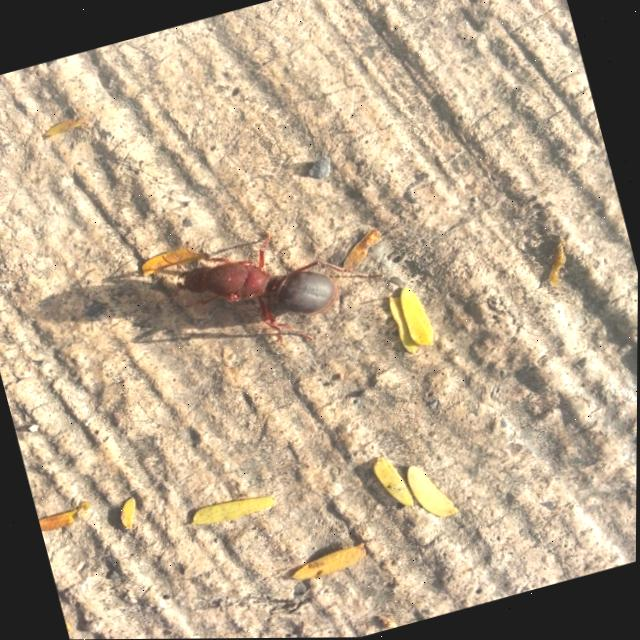Alive-Female-Dealate: (145, 200, 397, 375)
